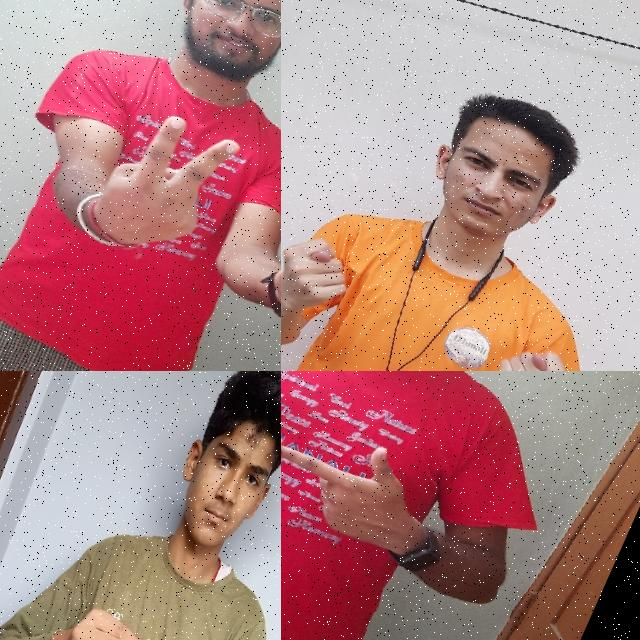Dulya: (281, 207, 375, 342), (472, 321, 593, 371)
Five Fathers: (281, 371, 445, 578), (35, 590, 231, 640)
Reversed Victory: (70, 87, 250, 284)
